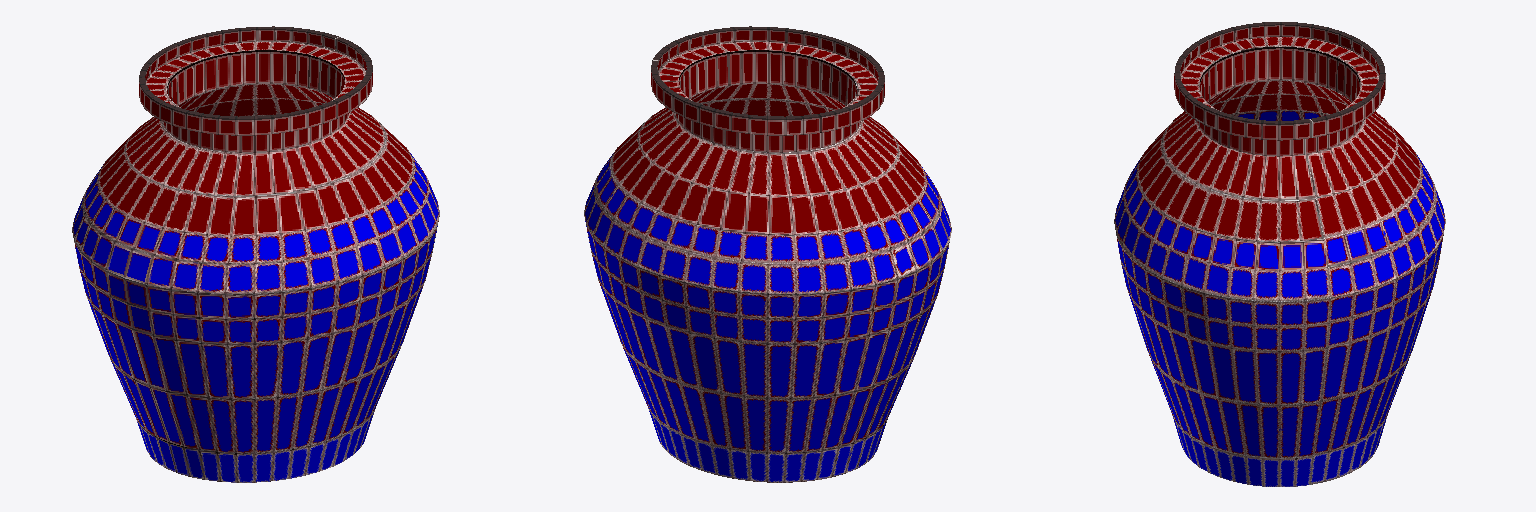
3 views of the same model, side by side, from view 1: azimuth 30°, elevation 25°; view 2: azimuth 150°, elevation 25°; view 3: azimuth 270°, elevation 25° (orthographic).
Visible parts, largest first — view 1: Circle; view 2: Circle; view 3: Circle.
Boxes of the visible parts, <box> form: Circle: <box>72,26,439,482</box>; Circle: <box>584,26,951,482</box>; Circle: <box>1114,22,1445,486</box>.
Bounding box in the file's own units: 2.37 × 2.53 × 2.08.
1 materials, 1 textured.